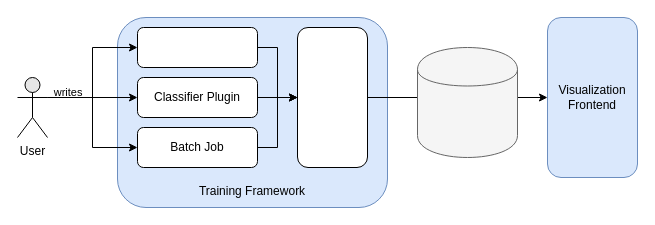
This 655x225 diagram has some shape labels left out. The shapes that lost their labels are listed below. From the top down, each one's centre as x and y in pixels, then its label:
At (197,47): "Dataset Plugin".
At (332,97): "Batch Training Program".
At (467,102): "Classifiers' Predictions & Scores".
